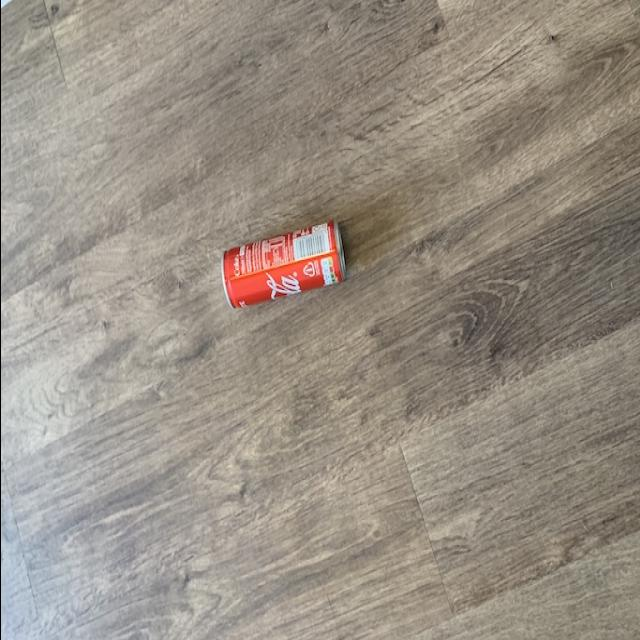Aluminum Can: (209, 196, 358, 324)
